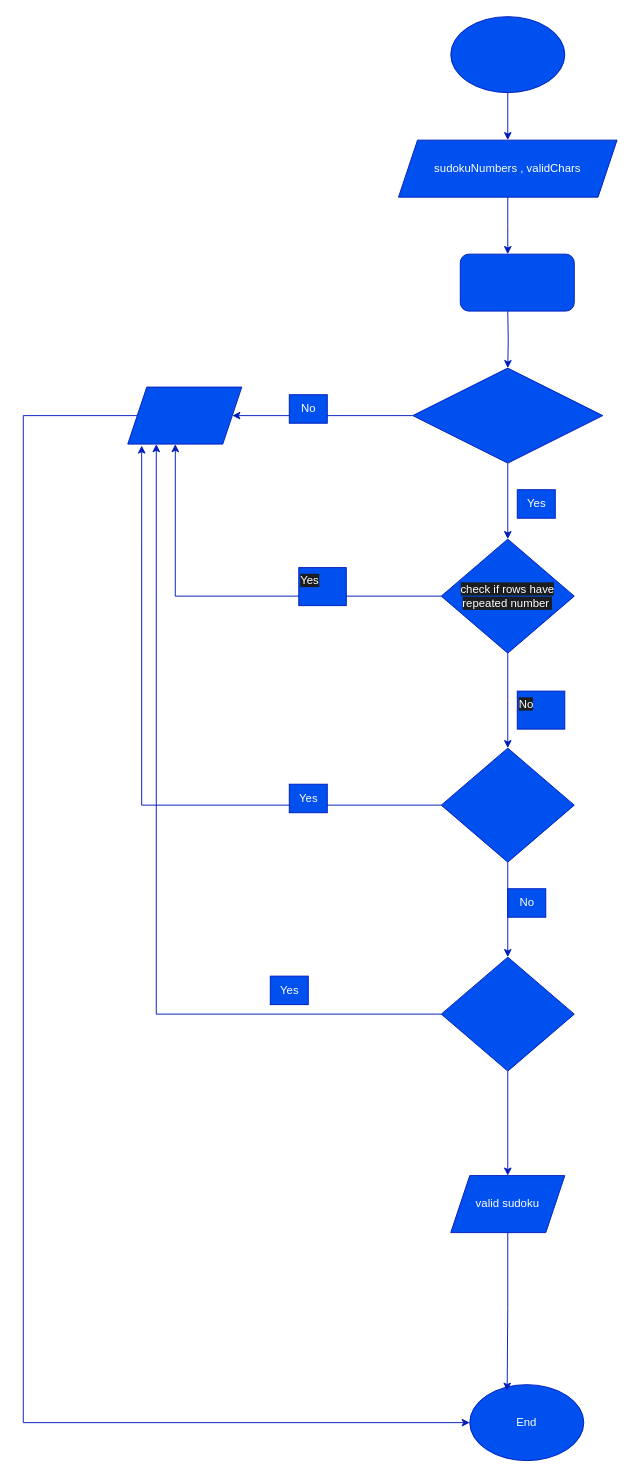
This 634x1477 diagram has some shape labels left out. The centre of each missing label's shape, as x and y in pixels:
"add valid items to validChars list" goes at (x=516, y=282).
"check if columns have repeated number" goes at (x=507, y=804).
"check if item of sudokuNumbers exist at validChar list" goes at (x=507, y=415).
"check if subgrids have repeated number" goes at (x=507, y=1013).
"invalid sudoku" goes at (x=184, y=415).
"Start" goes at (x=507, y=54).
